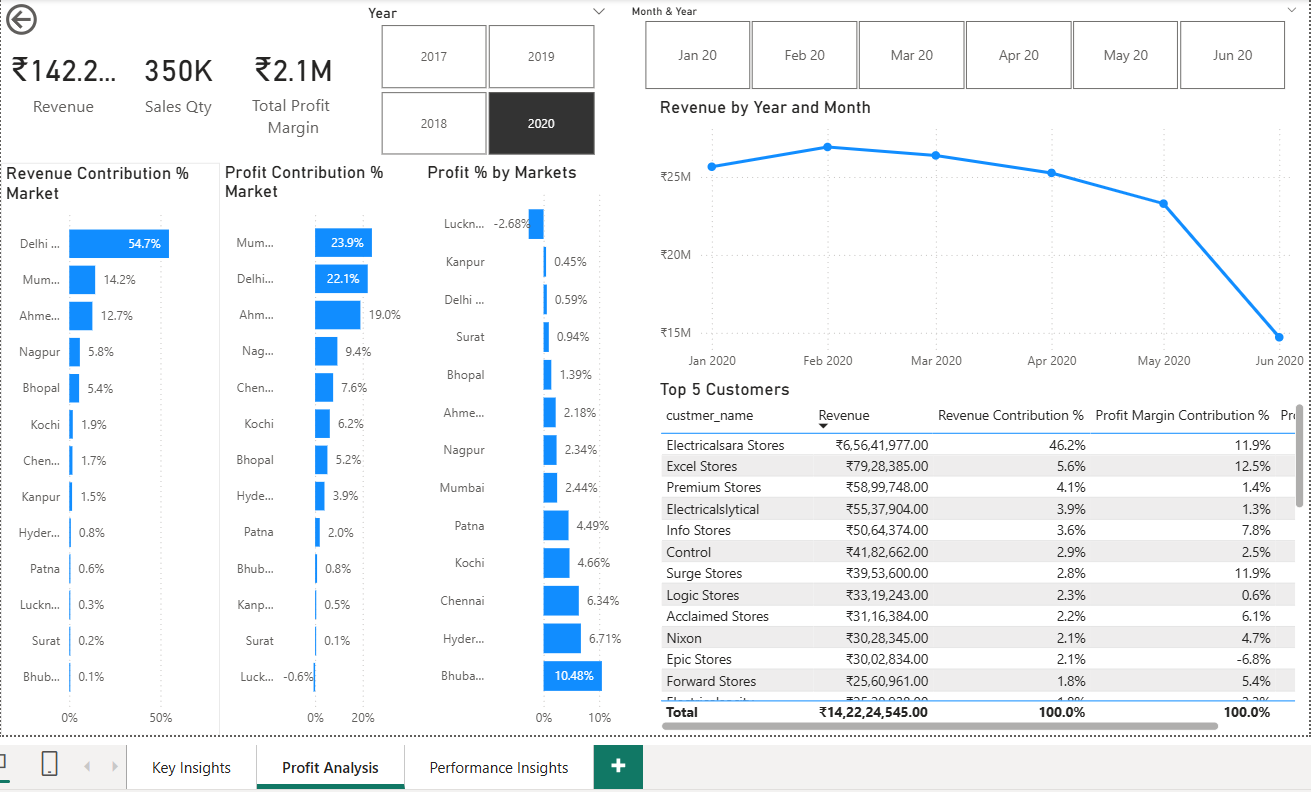

This screenshot's page, from the dashboard's own definition file:
{"tool":"powerbi","page":{"name":"Profit Analysis","canvas":[1280,720],"ordinal":1},"visuals":[{"type":"card","fields":{"Values":["BaseMeasures.Revenue"]},"box":[0,0,122.3,159],"z":0},{"type":"card","fields":{"Values":["BaseMeasures.Sales Qty"]},"box":[122.3,0,102.7,159],"z":1000},{"type":"barChart","title":"Profit % by Markets","fields":{"Category":["sales markets.markets_name"],"Y":["BaseMeasures.Profit Margin %"]},"box":[411.6,158.4,228.5,562.2],"z":2000},{"type":"barChart","title":"Profit Contribution % Market","fields":{"Category":["sales markets.markets_name"],"Y":["BaseMeasures.Profit Margin Contribution %"]},"box":[214.2,158.4,197.4,562.2],"z":3000},{"type":"slicer","fields":{"Values":["sales date.cy_date.Variation.Date Hierarchy.Year"]},"box":[346.1,0,258,159],"z":4000},{"type":"slicer","fields":{"Values":["sales date.cy_date"]},"box":[604.1,0,676.2,95.4],"z":5000},{"type":"tableEx","title":"Top 5 Customers","fields":{"Values":["sales customers.custmer_name","BaseMeasures.Revenue","BaseMeasures.Revenue Contribution %","BaseMeasures.Profit Margin Contribution %","BaseMeasures.Profit Margin %"]},"box":[640.1,371.4,640.1,349.3],"z":6000},{"type":"lineChart","fields":{"Category":["sales date.cy_date.Variation.Date Hierarchy.Year","sales date.cy_date.Variation.Date Hierarchy.Month"],"Y":["BaseMeasures.Revenue"]},"box":[640.1,94.8,640.1,276.6],"z":7000},{"type":"actionButton","box":[0,0,100,40],"z":8000},{"type":"card","fields":{"Values":["BaseMeasures.Total Profit Margin"]},"box":[224.6,0,122.1,158.4],"z":9000},{"type":"barChart","title":"Revenue Contribution % Market","fields":{"Category":["sales markets.markets_name"],"Y":["BaseMeasures.Revenue Contribution %"]},"box":[0,159.7,214.2,560.9],"z":10000}]}

Visuals, with their boxes on the page's 1280x720 design canvas (x1, y1, x2, y2). These are canvas units, not pixel positions in the 1311x792 screenshot, which may show the page scaled, cropped or inside an application window:
card - BaseMeasures.Revenue: [0, 0, 122, 159]
card - BaseMeasures.Sales Qty: [122, 0, 225, 159]
"Profit % by Markets" barChart: [412, 158, 640, 721]
"Profit Contribution % Market" barChart: [214, 158, 412, 721]
slicer - sales date.cy_date.Variation.Date Hierarchy.Year: [346, 0, 604, 159]
slicer - sales date.cy_date: [604, 0, 1280, 95]
"Top 5 Customers" tableEx: [640, 371, 1280, 721]
lineChart - sales date.cy_date.Variation.Date Hierarchy.Year x sales date.cy_date.Variation.Date Hierarchy.Month: [640, 95, 1280, 371]
actionButton: [0, 0, 100, 40]
card - BaseMeasures.Total Profit Margin: [225, 0, 347, 158]
"Revenue Contribution % Market" barChart: [0, 160, 214, 721]
